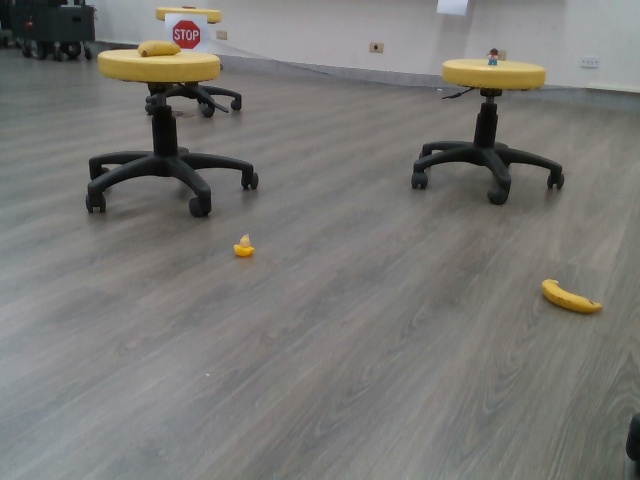banana: (536, 272, 610, 321), (135, 38, 183, 60)
duck: (227, 225, 255, 260)
